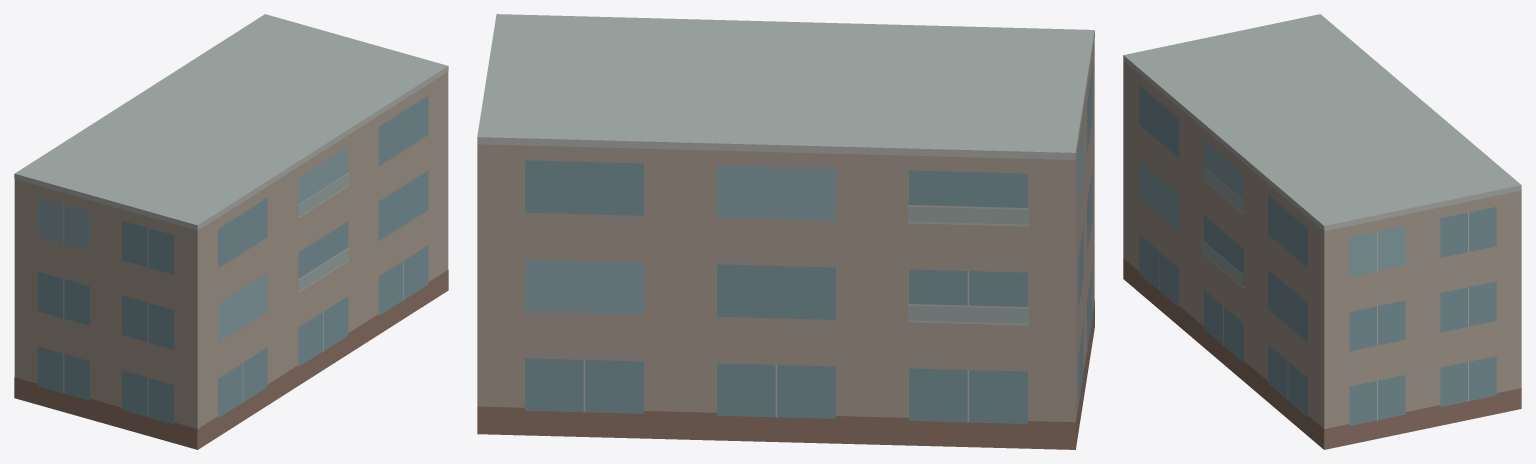
Rendered from survey-upis-32772004.glb.
3 views of the same model, side by side, from view 1: azimuth 30°, elevation 25°; view 2: azimuth 150°, elevation 25°; view 3: azimuth 270°, elevation 25° (orthographic). The views are drawn at different scales.
Visible parts, largest first — view 1: survey-upis-32772004.tmp; view 2: survey-upis-32772004.tmp; view 3: survey-upis-32772004.tmp.
Part boxes in pixels (left/top/right/bottom): survey-upis-32772004.tmp: left=14, top=14, right=448, bottom=449; survey-upis-32772004.tmp: left=477, top=14, right=1094, bottom=449; survey-upis-32772004.tmp: left=1123, top=14, right=1521, bottom=449.
Bounding box in the file's own units: 20.73 × 10.2 × 16.46.
